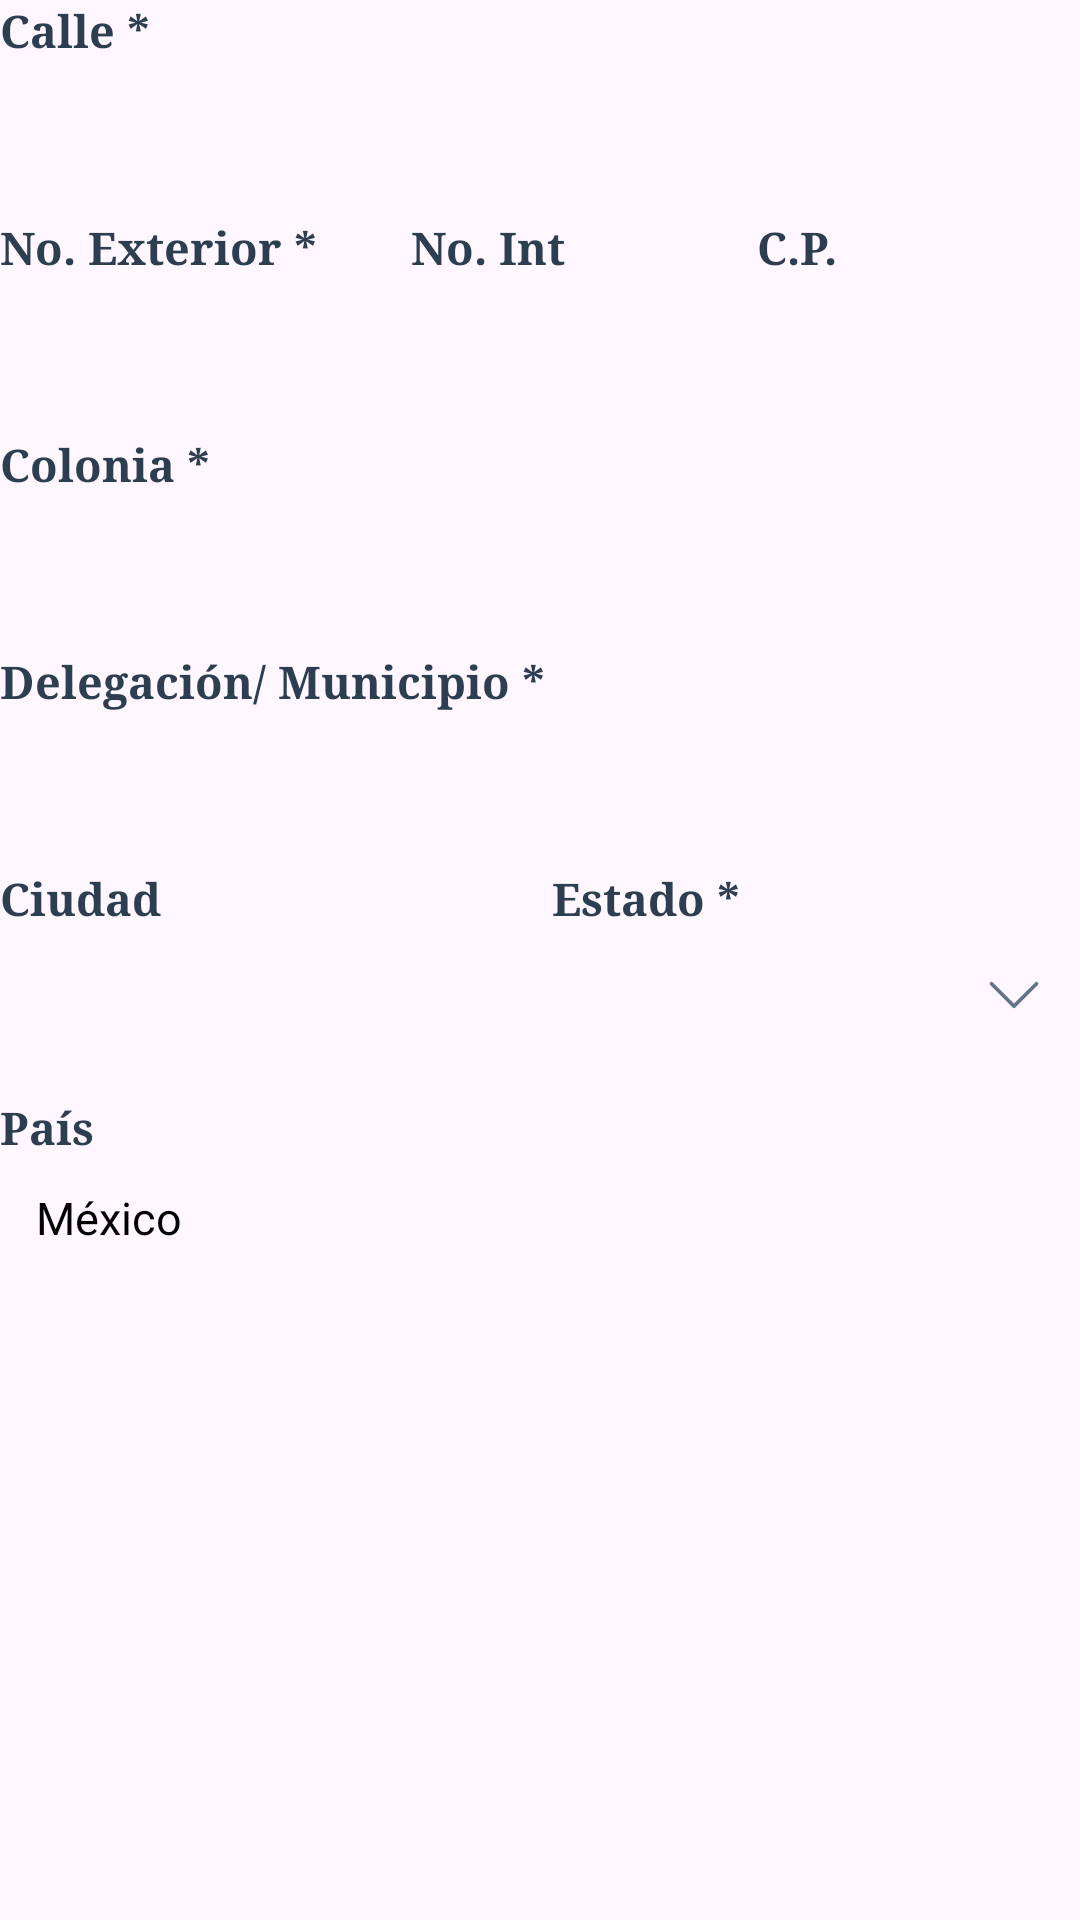

Screen size 1080 x 1920. Icon name, then its center in pixels as [x,y]:
abajo: [1014,994]
